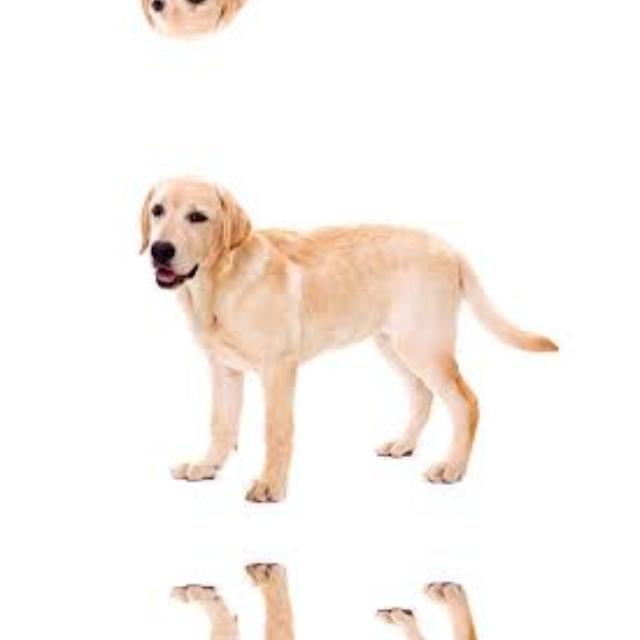dog: (124, 145, 574, 510), (124, 556, 573, 640), (124, 0, 573, 69)
